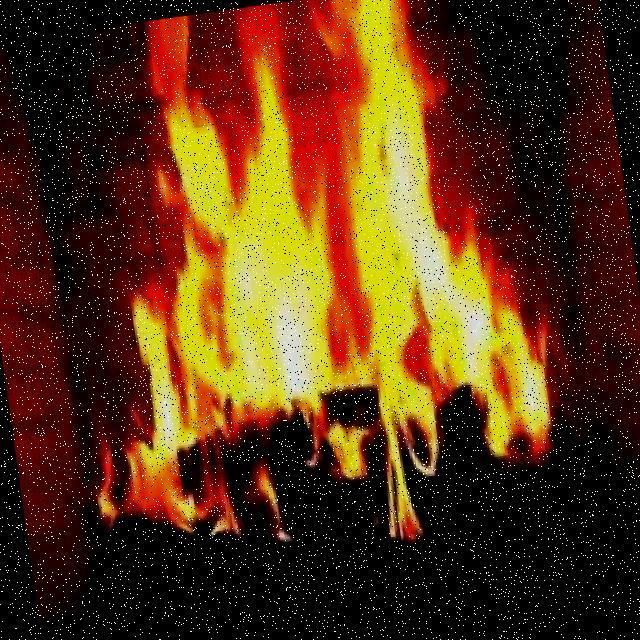Fire: (139, 17, 550, 505)
